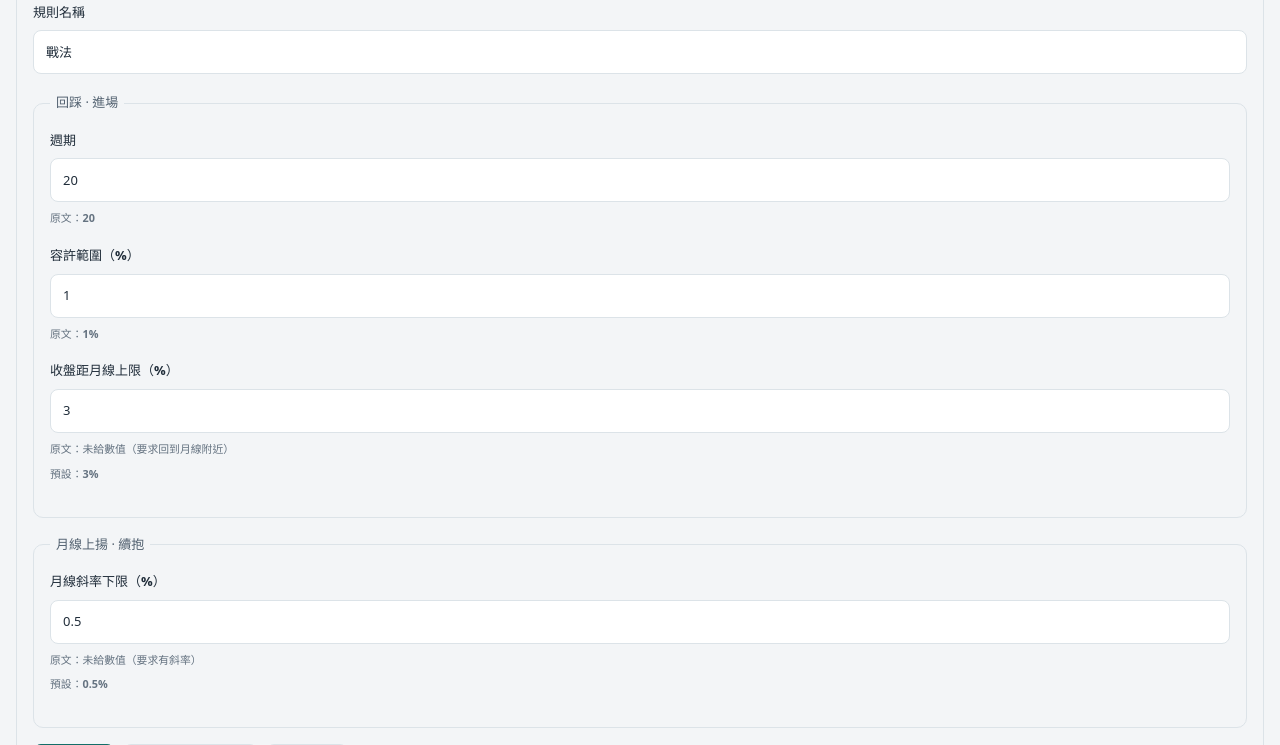
Test case: 戰法二顯示系統預設與原文要求，還原後保留兩項限制
Expected: the number field labelled "月線斜率下限（%） 原文：未給數值（要求有斜率） 預設：0.5%" holds "0.5", [50,600,1230,644]
Expected: the text "原文：未給數值（要求回到月線附近）" is shown, [50,441,234,456]
Replace the text in the number field labelled "收盤距月線上限（%） 原文：未給數值（要求回到月線附近） 預設：3%" with "8" at (640, 411), box [50,389,1230,433]
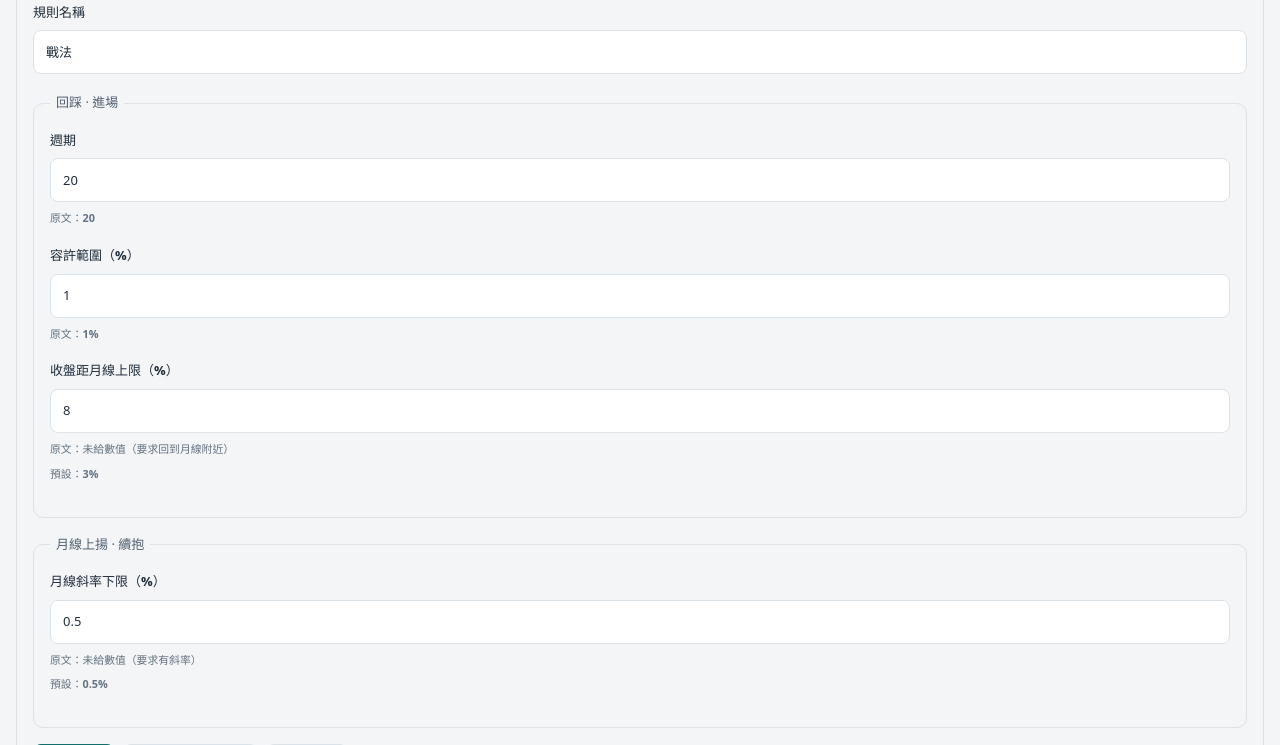
Clear the number field labelled "月線斜率下限（%） 原文：未給數值（要求有斜率） 預設：0.5%" at (640, 622), box [50,600,1230,644]
(page scrolled)
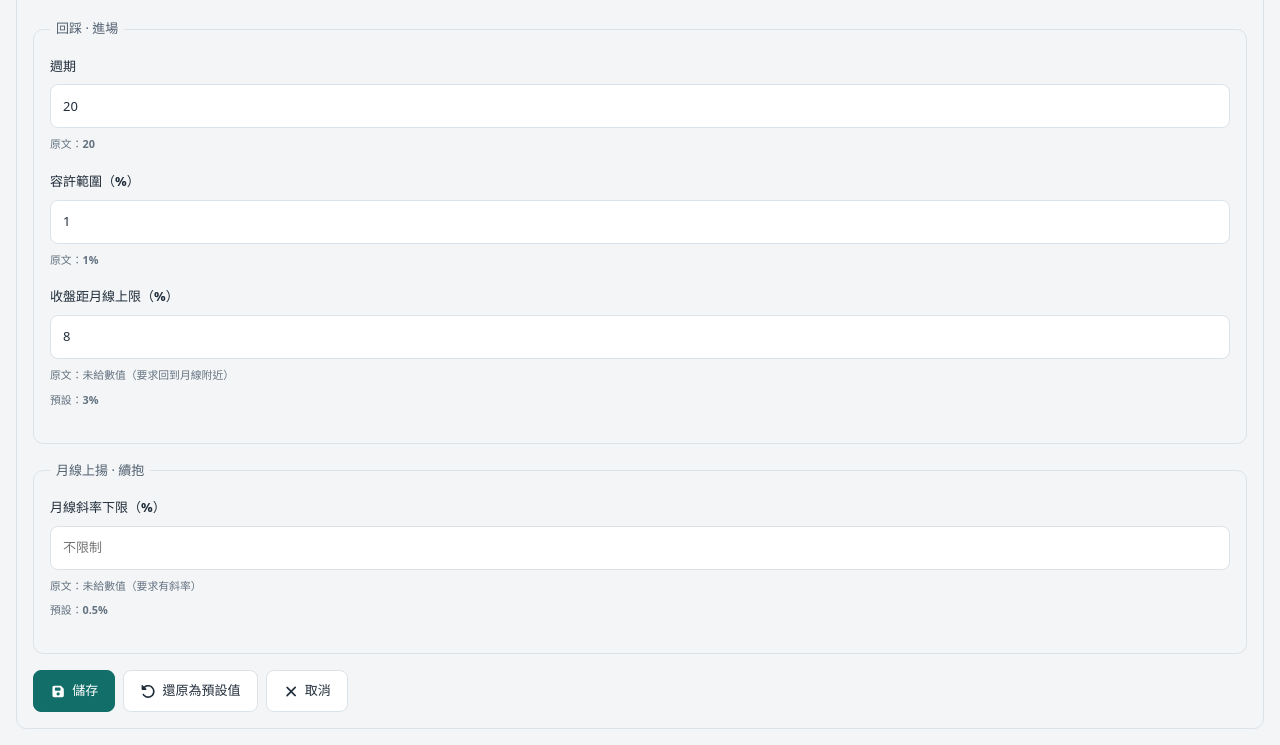
Click the button "還原為預設值" at (190, 691), box [123,670,258,712]
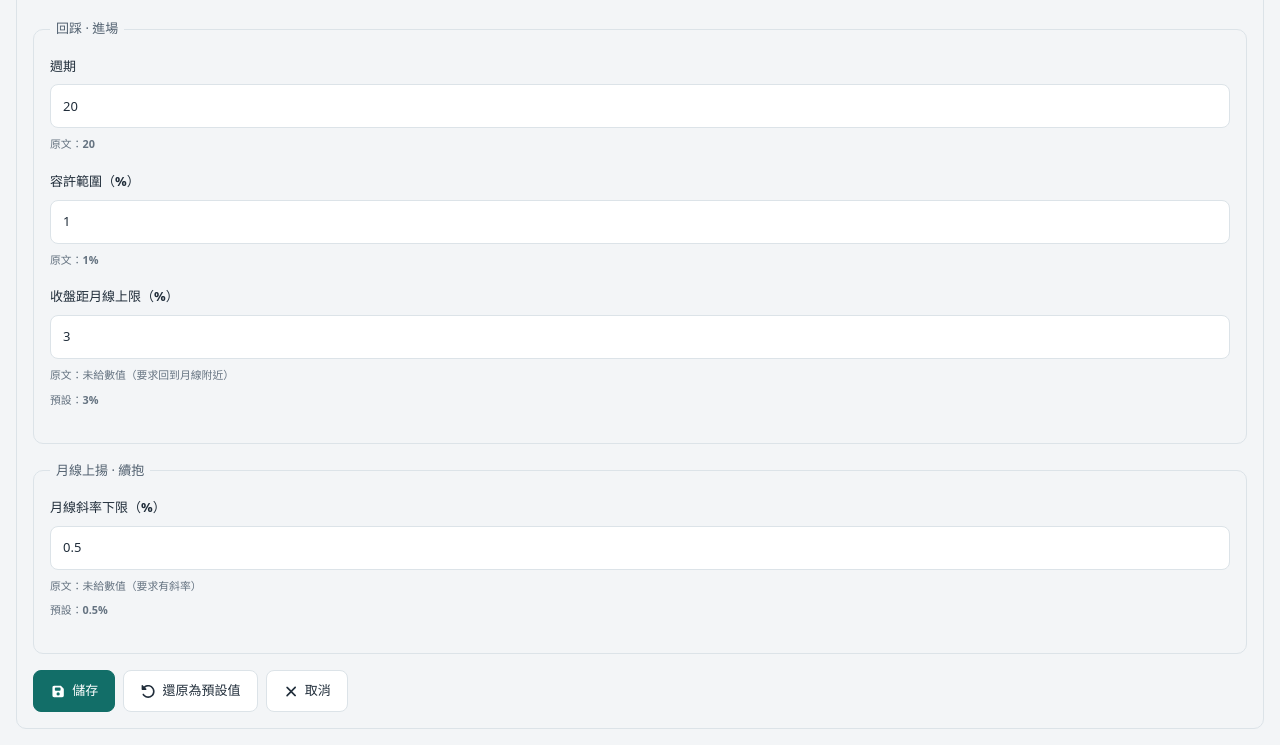
Expected: the number field labelled "收盤距月線上限（%） 原文：未給數值（要求回到月線附近） 預設：3%" holds "3", [50,315,1230,359]
Expected: the number field labelled "月線斜率下限（%） 原文：未給數值（要求有斜率） 預設：0.5%" holds "0.5", [50,526,1230,570]
